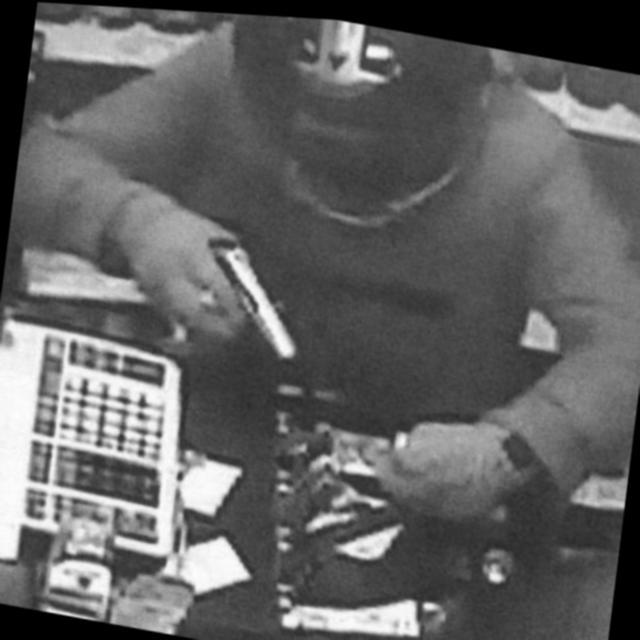weapon: (195, 235, 318, 366)
